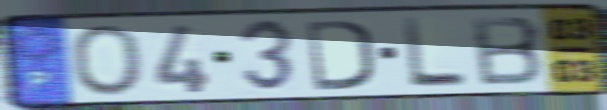3: (234, 17, 298, 97)
4: (151, 20, 214, 96)
B: (468, 14, 546, 88)
D: (303, 17, 377, 93)
L: (399, 16, 470, 91)
O: (67, 22, 145, 98)
